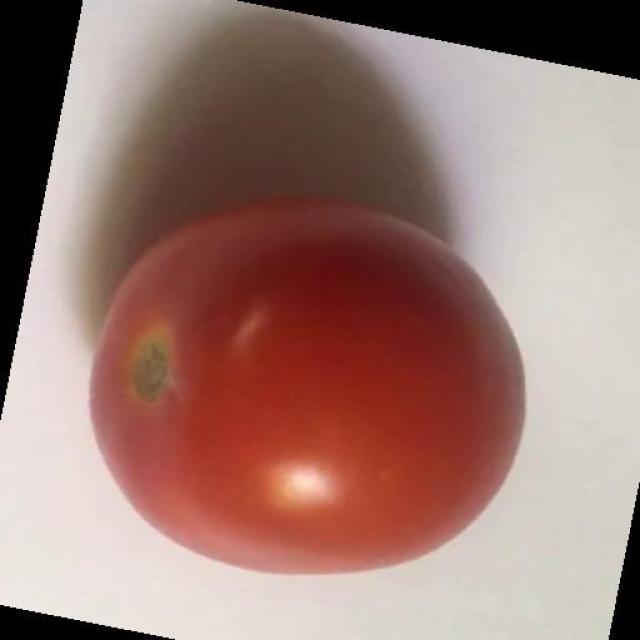Fresh Tomato: (75, 177, 544, 610)
